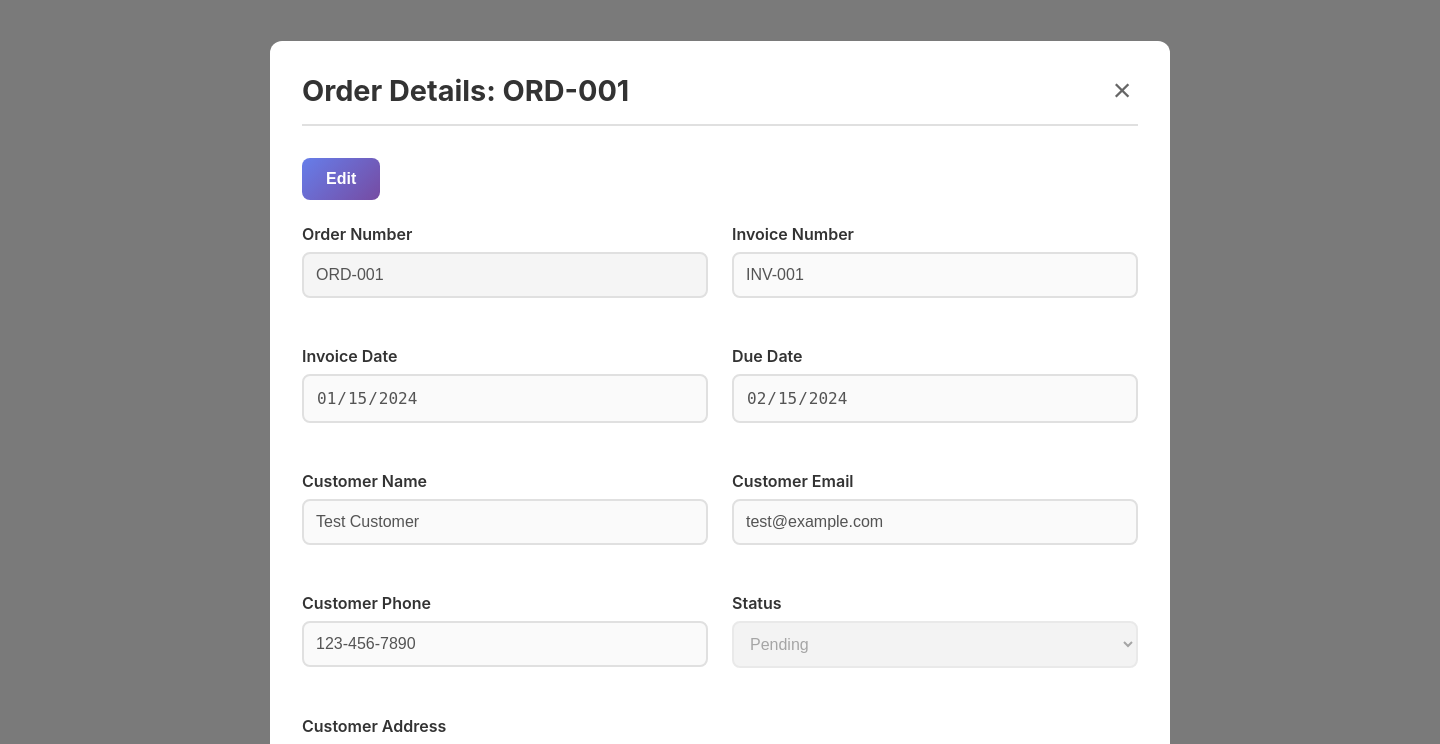
it: OrderDetail Component › cancels editing when Cancel is clicked
Step 1. Click the button "Edit" → (341, 178), box x1=302 y1=158 x2=380 y2=200
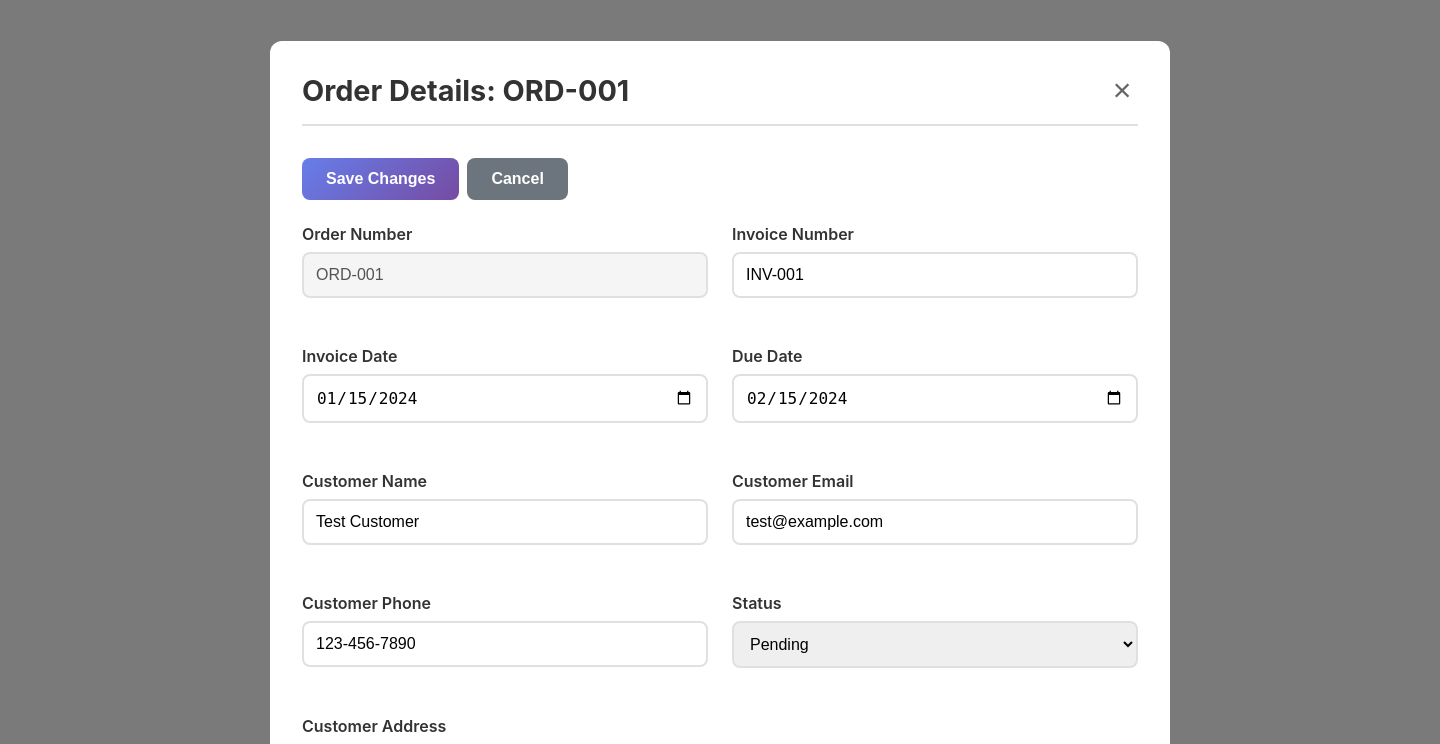
Step 2. Replace the text in the field showing "Test Customer" below "Customer Name" with "Changed Name" → (505, 522), box x1=302 y1=498 x2=708 y2=544
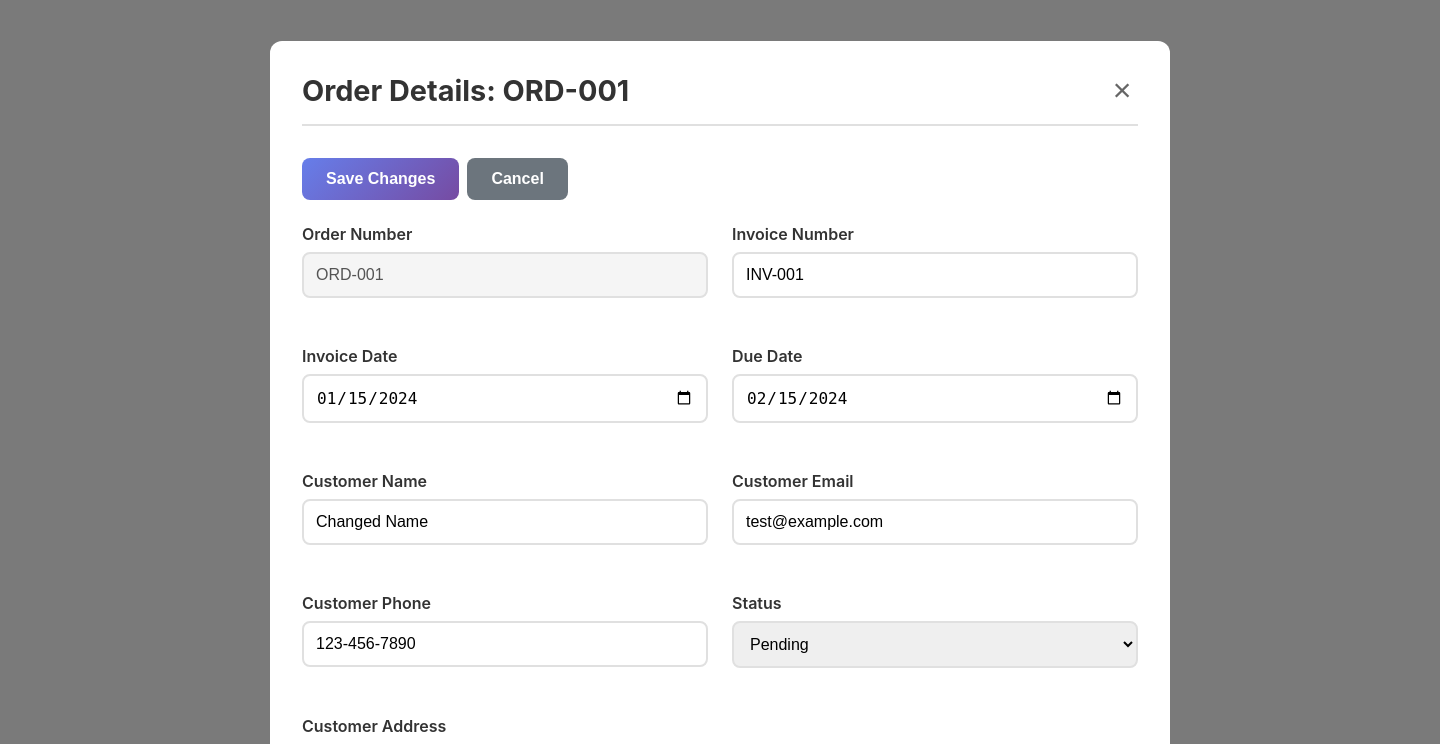
Step 3. Click the button "Cancel" → (518, 178), box x1=467 y1=158 x2=568 y2=200
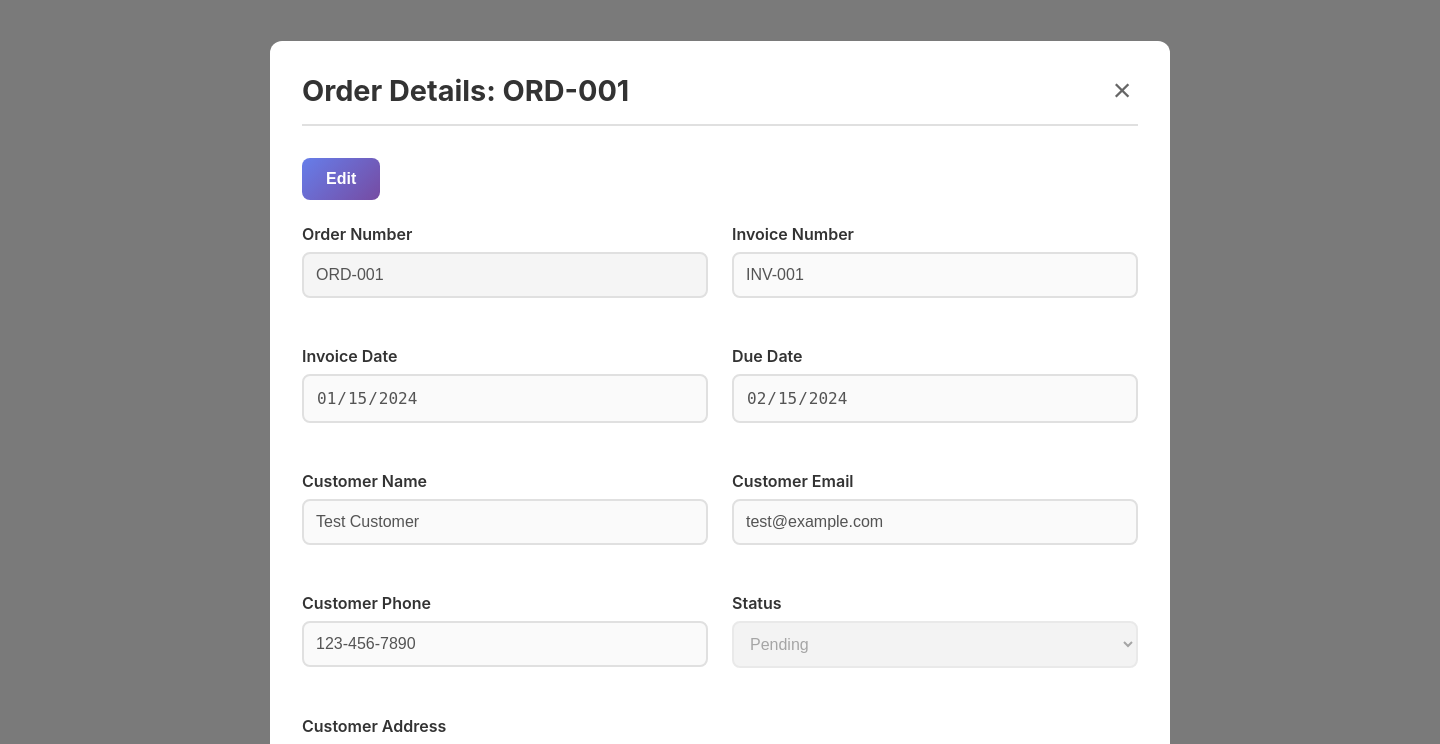
Expected: the field showing "Test Customer" below "Customer Name" is shown, x1=302 y1=498 x2=708 y2=544
